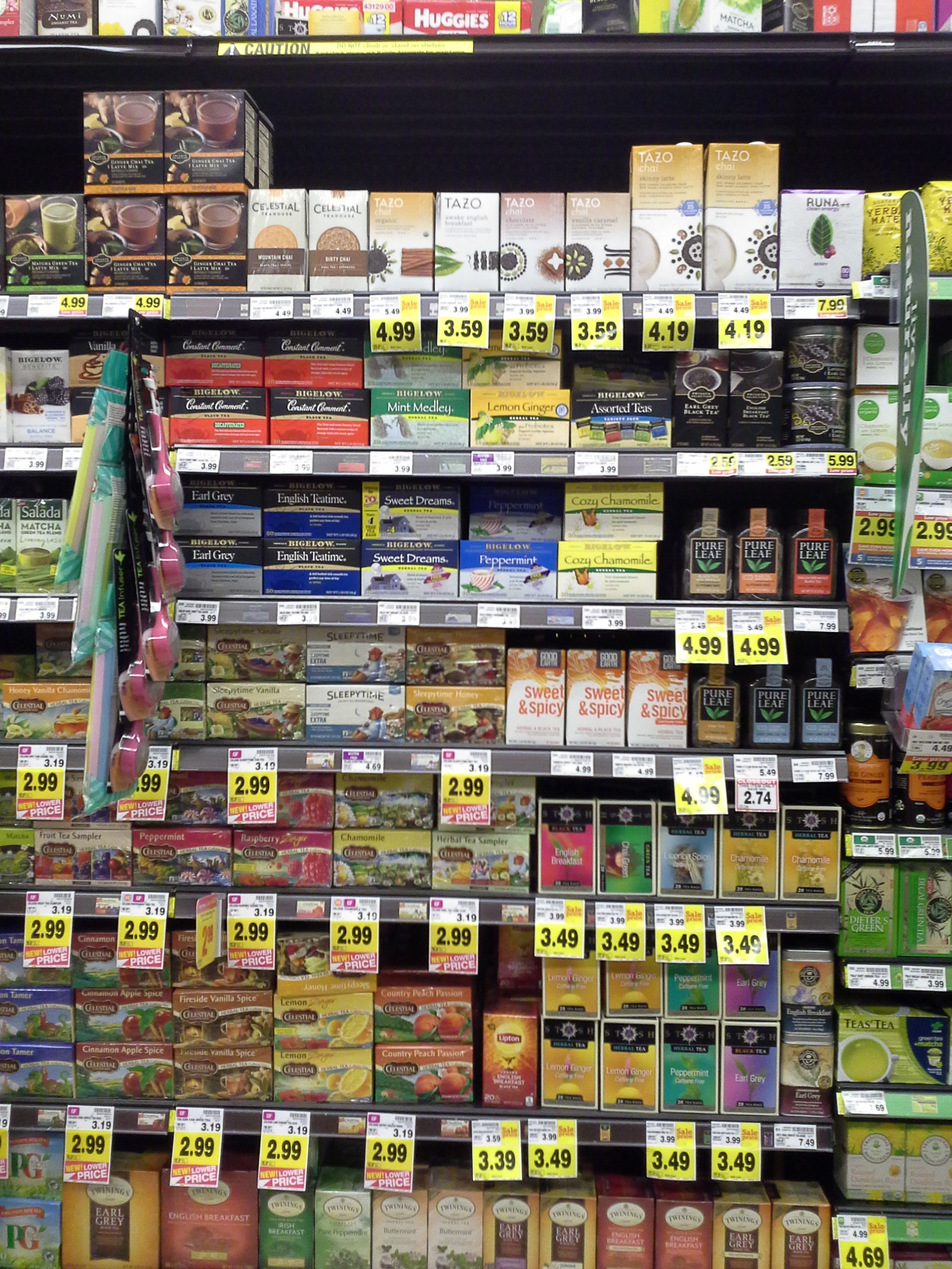Box: (705, 141, 779, 297), (633, 146, 702, 301), (163, 1172, 257, 1269), (782, 192, 864, 296), (68, 1169, 154, 1268), (1, 192, 84, 288), (841, 1018, 948, 1090), (163, 90, 244, 183), (856, 552, 928, 653), (84, 93, 159, 186), (168, 198, 244, 288), (566, 192, 630, 294), (88, 201, 163, 288), (368, 189, 430, 293), (246, 187, 305, 294), (502, 193, 565, 292), (380, 1047, 476, 1111), (307, 191, 364, 297), (557, 542, 657, 601), (376, 391, 469, 454), (132, 831, 231, 890), (577, 390, 671, 452), (435, 835, 528, 897), (475, 390, 570, 450), (411, 686, 504, 747), (209, 682, 299, 745), (272, 392, 368, 451), (464, 330, 565, 386), (438, 192, 495, 291), (782, 809, 840, 906), (76, 1046, 174, 1103), (799, 640, 848, 754), (598, 801, 656, 897), (569, 650, 624, 751), (175, 933, 277, 987), (568, 485, 668, 540), (169, 391, 267, 447), (629, 651, 683, 751), (685, 495, 734, 605), (309, 686, 405, 742), (545, 1016, 601, 1111), (693, 647, 742, 755), (441, 773, 532, 831), (34, 829, 126, 886), (721, 807, 777, 900), (539, 797, 591, 897), (843, 861, 896, 959), (461, 544, 557, 598), (266, 540, 360, 595), (727, 1020, 782, 1114), (660, 805, 714, 899), (510, 650, 563, 745), (73, 936, 166, 990), (336, 835, 429, 889), (168, 482, 261, 535), (787, 504, 838, 600), (364, 542, 456, 595), (236, 834, 328, 887), (470, 485, 560, 539), (276, 1054, 375, 1103), (281, 939, 381, 987), (169, 543, 263, 594), (747, 647, 793, 751), (367, 335, 459, 387), (901, 866, 951, 961), (410, 632, 505, 682), (29, 776, 130, 823), (606, 1021, 660, 1108), (341, 776, 433, 827), (738, 495, 782, 601), (382, 987, 470, 1040), (166, 335, 261, 384), (266, 338, 362, 386), (78, 992, 172, 1041), (207, 627, 305, 674), (484, 1015, 534, 1107), (131, 776, 233, 821), (843, 1123, 901, 1202), (178, 1049, 269, 1099), (178, 995, 272, 1043), (236, 779, 338, 823), (668, 1023, 719, 1111), (365, 490, 459, 537), (595, 1196, 654, 1269), (429, 1185, 480, 1269), (276, 998, 374, 1041), (484, 1190, 537, 1269), (855, 717, 892, 830), (266, 490, 361, 534), (309, 633, 401, 678), (313, 1195, 369, 1268), (374, 1193, 427, 1268), (774, 1202, 833, 1269), (540, 1196, 594, 1268), (265, 1181, 309, 1269), (3, 925, 66, 986), (656, 1199, 709, 1268), (790, 1035, 835, 1116), (715, 1202, 769, 1269), (858, 396, 899, 482), (3, 1048, 72, 1099), (793, 324, 852, 383), (787, 954, 833, 1029), (3, 990, 70, 1041), (3, 1202, 59, 1262), (1, 1140, 60, 1195), (910, 1129, 952, 1205), (788, 391, 844, 447), (727, 966, 782, 1019), (922, 390, 952, 485), (546, 957, 600, 1009), (867, 190, 898, 279), (673, 343, 726, 395), (858, 324, 901, 385), (927, 184, 952, 285), (671, 963, 720, 1013), (610, 966, 663, 1012), (734, 351, 783, 397), (502, 922, 534, 989)
Pouch: (4, 683, 94, 745), (12, 350, 70, 445), (19, 496, 70, 592), (40, 624, 89, 673)
